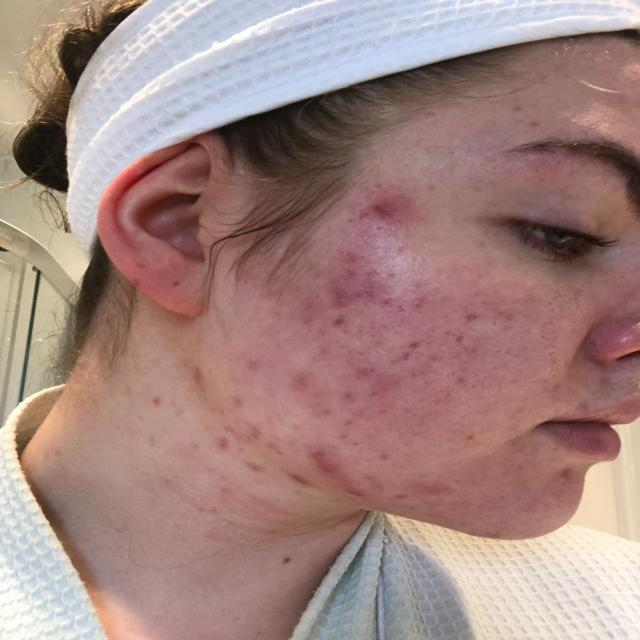Acne: (294, 354, 469, 440), (325, 193, 413, 323)
